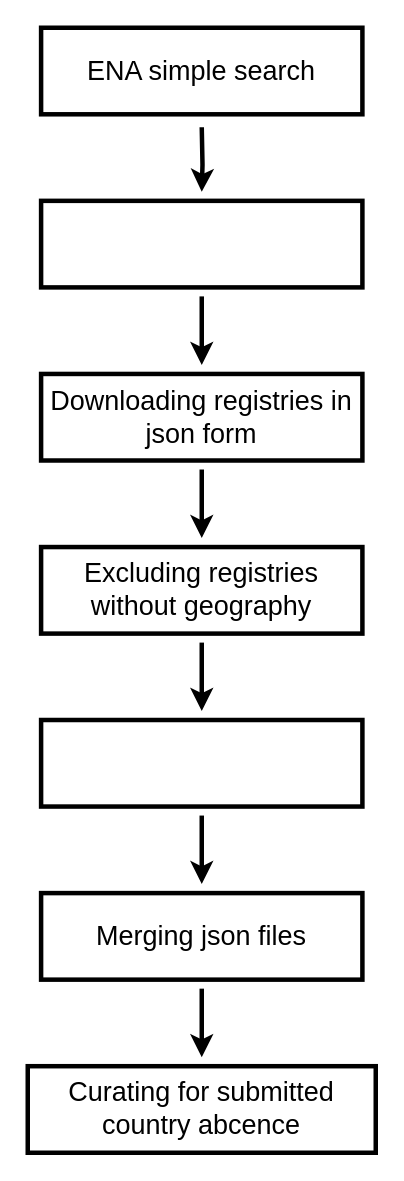
Image size: 404x1181. Some labels were removed from this diagram. The shapes that lost their labels are listed below. From the top down, each one's box as (x1, y1, x2, y2) in pixels, then its label:
(38, 198, 364, 289): ENA advanced search
(38, 717, 364, 808): Establishing metrics for registries
